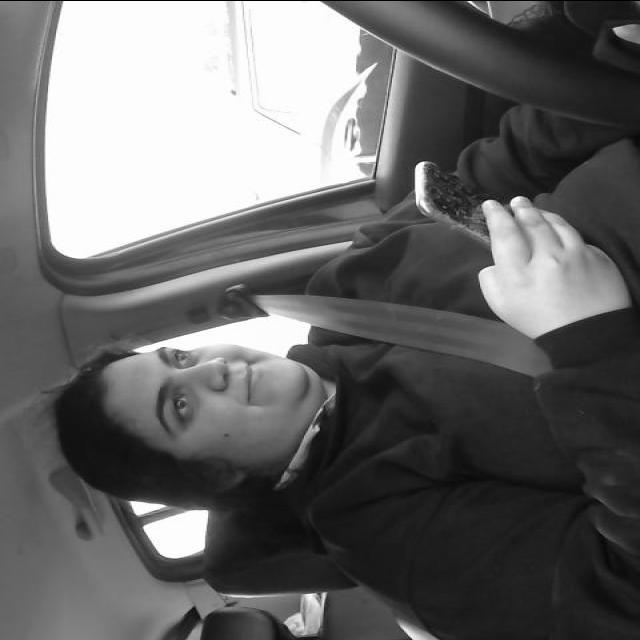mobile use: (414, 156, 516, 248)
